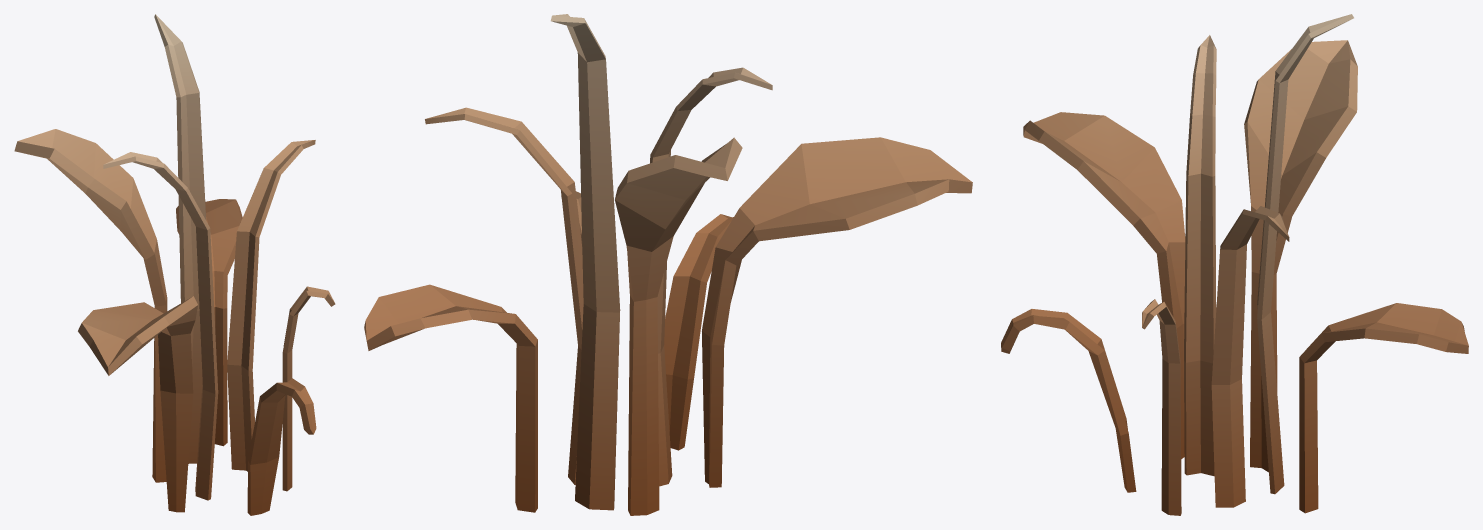
The model's file is plants brown.fbx.
3 views of the same model, side by side, from view 1: azimuth 30°, elevation 25°; view 2: azimuth 150°, elevation 25°; view 3: azimuth 270°, elevation 25° (orthographic). The views are drawn at different scales.
Parts seen in each view (by area): view 1: plants brown; view 2: plants brown; view 3: plants brown.
Boxes of the visible parts, box(x1,y1,x2,y2) form: plants brown: box(14, 14, 335, 515); plants brown: box(364, 14, 972, 515); plants brown: box(1001, 14, 1468, 515).
Bounding box in the file's own units: 183 × 227 × 204.
